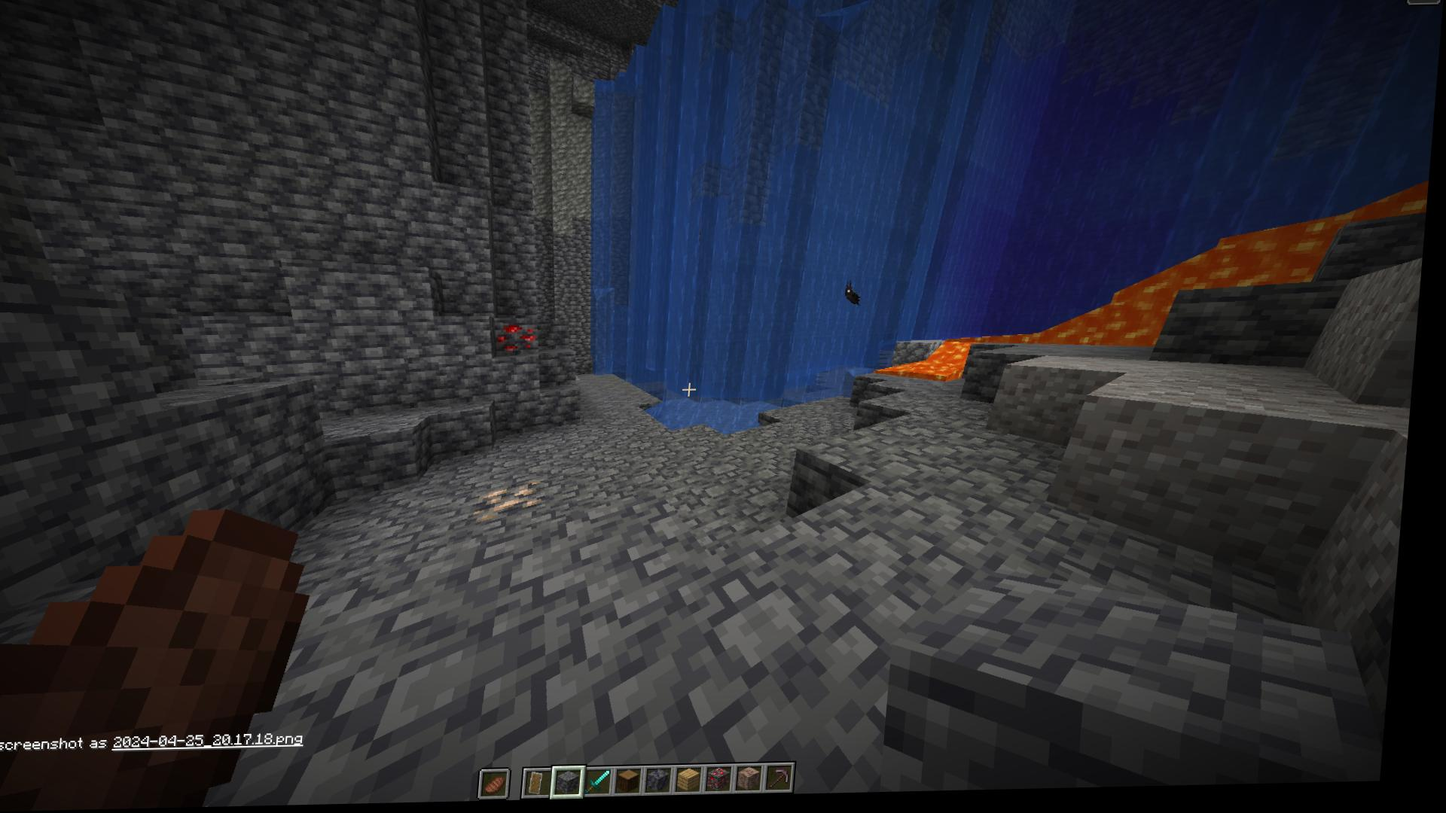iron ore: (481, 482, 554, 520)
redstone ore: (497, 322, 545, 359)
